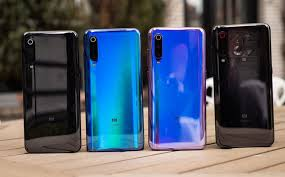mi: (21, 27, 83, 157), (83, 24, 145, 154), (144, 26, 206, 156), (212, 21, 274, 151)
